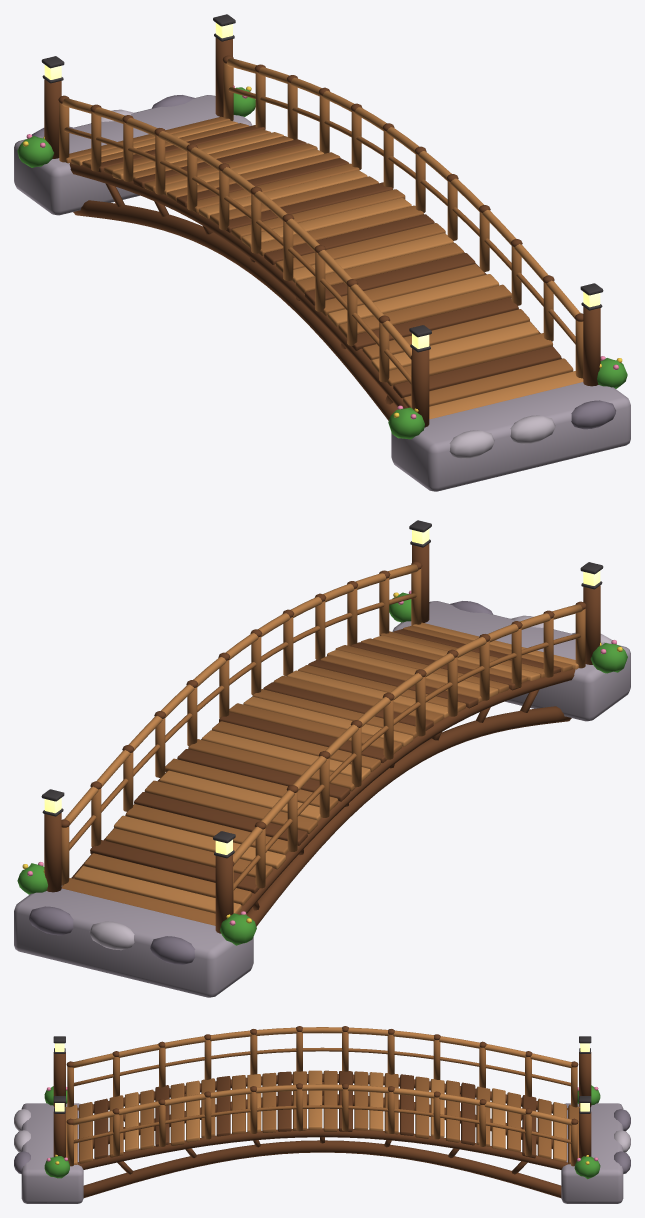
The model's file is prop_bridge_curved_v02.glb.
3 renders of one model, top to bottom at view 1: azimuth 30°, elevation 25°; view 2: azimuth 150°, elevation 25°; view 3: azimuth 270°, elevation 25°, orthographic. The views are drawn at different scales.
Visible parts, largest first — view 1: prop_bridge_curved_v02; view 2: prop_bridge_curved_v02; view 3: prop_bridge_curved_v02.
Boxes of the visible parts, left/top/right/bottom form: prop_bridge_curved_v02: left=14, top=14, right=630, bottom=491; prop_bridge_curved_v02: left=14, top=520, right=630, bottom=997; prop_bridge_curved_v02: left=14, top=1026, right=630, bottom=1203.
Size of the model in its own units: 4.07 by 2.84 by 12.92.
Materials: 2 (1 with a texture image).
